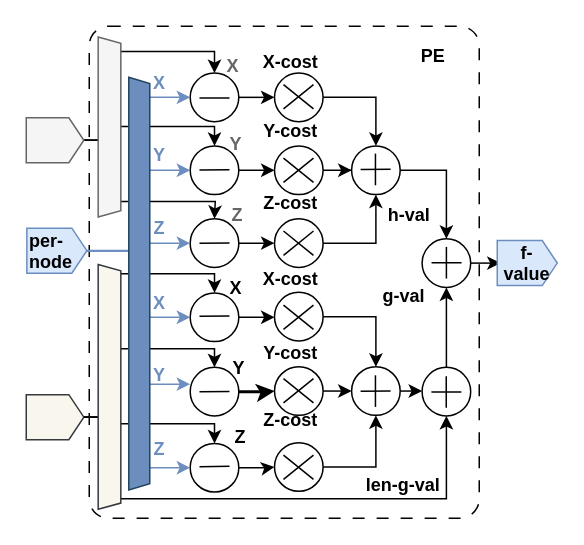
Some shapes in this 584 by 545 pixel diagram are drawn without their labels. The centre of each missing label's shape, as x and y in pixels:
"cen- node" belongs at point 54,416.
"end- node" belongs at point 54,139.
